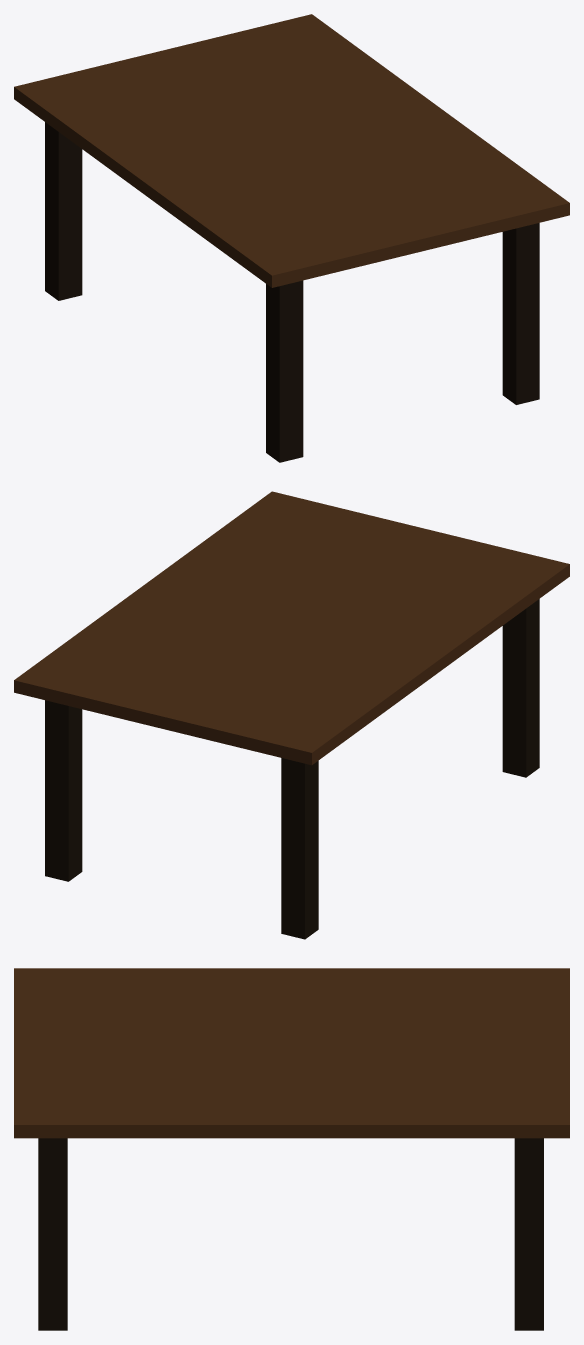
File: Table1WIP.fbx
3 views of the same model, one above another, from view 1: azimuth 30°, elevation 25°; view 2: azimuth 150°, elevation 25°; view 3: azimuth 270°, elevation 25° (orthographic). The views are drawn at different scales.
Parts seen in each view (by area): view 1: Table; view 2: Table; view 3: Table.
Boxes of the visible parts, bbox=[...] form: Table: bbox=[14, 14, 569, 462]; Table: bbox=[14, 491, 569, 939]; Table: bbox=[14, 968, 569, 1330].
Size of the model in its own units: 216 by 139 by 325.
